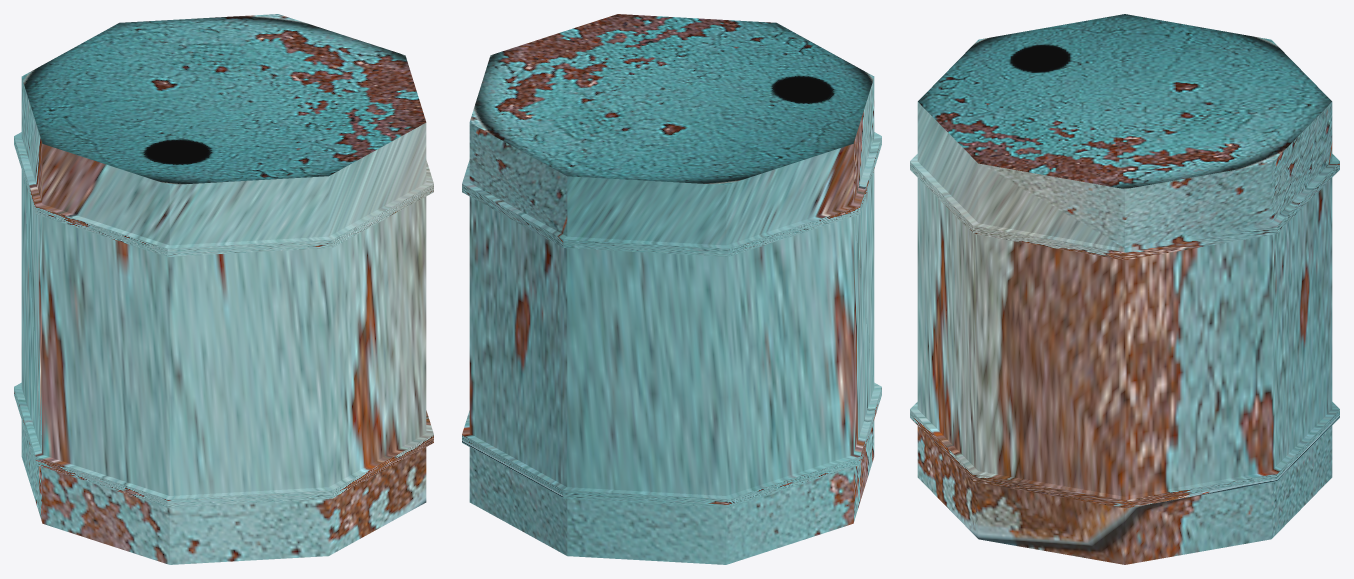
The model's file is console.glb.
The picture shows the model from 3 angles, left to right: view 1: azimuth 30°, elevation 25°; view 2: azimuth 150°, elevation 25°; view 3: azimuth 270°, elevation 25°; orthographic projection.
Parts seen in each view (by area): view 1: Barrel (Oil); view 2: Barrel (Oil); view 3: Barrel (Oil).
Part boxes in pixels (bbox=[...]): Barrel (Oil): bbox=[14, 14, 433, 564]; Barrel (Oil): bbox=[462, 14, 881, 564]; Barrel (Oil): bbox=[910, 14, 1339, 564].
Bounding box in the file's own units: 0.8885 × 0.8568 × 0.8885.
1 material, 1 textured.
